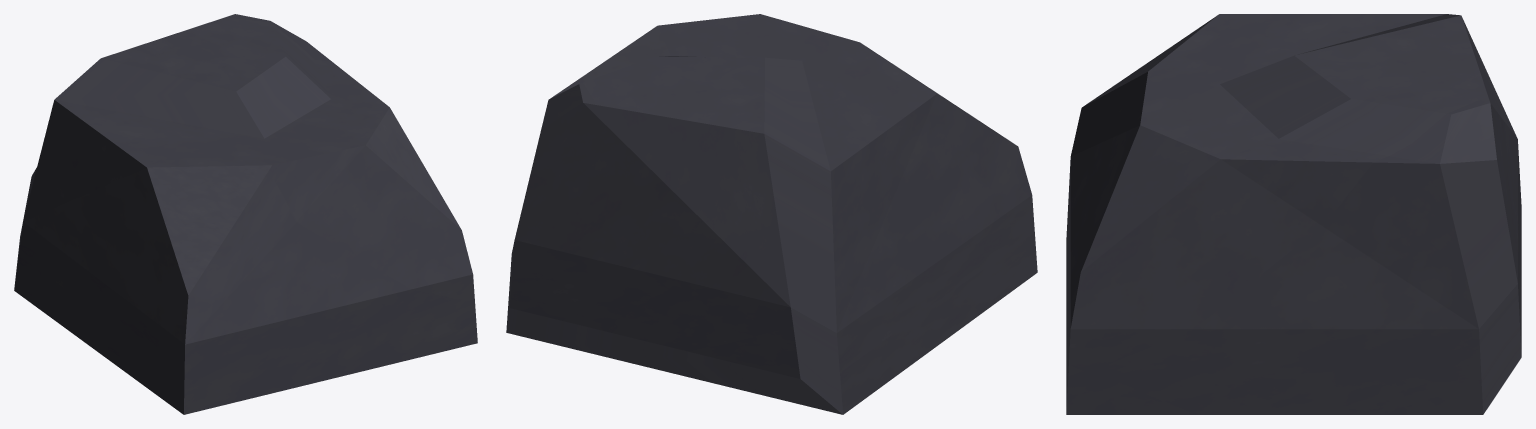
Rendered from rock 3.fbx.
3 renders of one model, left to right at view 1: azimuth 30°, elevation 25°; view 2: azimuth 150°, elevation 25°; view 3: azimuth 270°, elevation 25°, orthographic. The views are drawn at different scales.
Parts seen in each view (by area): view 1: Cube.002; view 2: Cube.002; view 3: Cube.002.
Part boxes in pixels (x1=…): Cube.002: x1=14, y1=14, x2=477, y2=414; Cube.002: x1=506, y1=14, x2=1037, y2=414; Cube.002: x1=1066, y1=14, x2=1521, y2=414.
Size of the model in its own units: 278 by 199 by 304.
